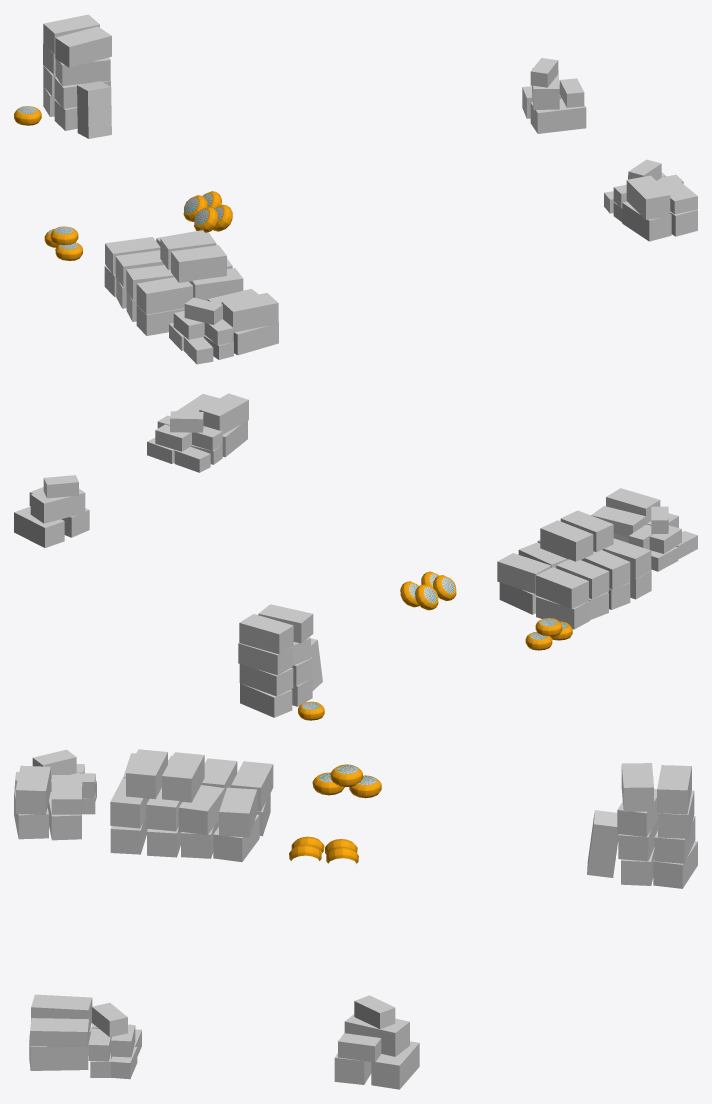
Rendered from worker_multifactory_cheese.gltf.
3 renders of one model, top to bottom at view 1: azimuth 30°, elevation 25°; view 2: azimuth 150°, elevation 25°; view 3: azimuth 270°, elevation 25°, orthographic. The views are drawn at different scales.
Parts seen in each view (by area): view 1: prop_cheese_boxes_0, prop_nac_boxes_1, prop_cheese_boxes_1, prop_nac_boxes_2, prop_nac_boxes_3; view 2: prop_cheese_boxes_0, prop_nac_boxes_1, prop_nac_boxes_2, prop_cheese_boxes_1, prop_nac_boxes_3; view 3: prop_cheese_boxes_0, prop_nac_boxes_1, prop_nac_boxes_2, prop_cheese_boxes_1, prop_nac_boxes_3, prop_cheese_7, prop_cheese_6.
Boxes of the visible parts, x1,y1,x2,y2 form: prop_cheese_boxes_0: [104, 230, 243, 335]; prop_nac_boxes_1: [43, 14, 111, 138]; prop_cheese_boxes_1: [169, 288, 278, 364]; prop_nac_boxes_2: [604, 159, 697, 241]; prop_nac_boxes_3: [522, 58, 586, 133]; prop_cheese_boxes_0: [497, 510, 651, 629]; prop_nac_boxes_1: [238, 604, 322, 717]; prop_nac_boxes_2: [147, 393, 248, 472]; prop_cheese_boxes_1: [591, 488, 697, 571]; prop_nac_boxes_3: [14, 475, 89, 547]; prop_cheese_boxes_0: [110, 749, 273, 861]; prop_nac_boxes_1: [587, 763, 697, 888]; prop_nac_boxes_2: [29, 994, 141, 1079]; prop_cheese_boxes_1: [14, 749, 96, 840]; prop_nac_boxes_3: [334, 995, 419, 1089]; prop_cheese_7: [330, 764, 362, 786]; prop_cheese_6: [349, 775, 381, 798].
Bounding box in the file's own units: 2.89 × 0.5035 × 2.73.
Materials: 1 (1 with a texture image).
